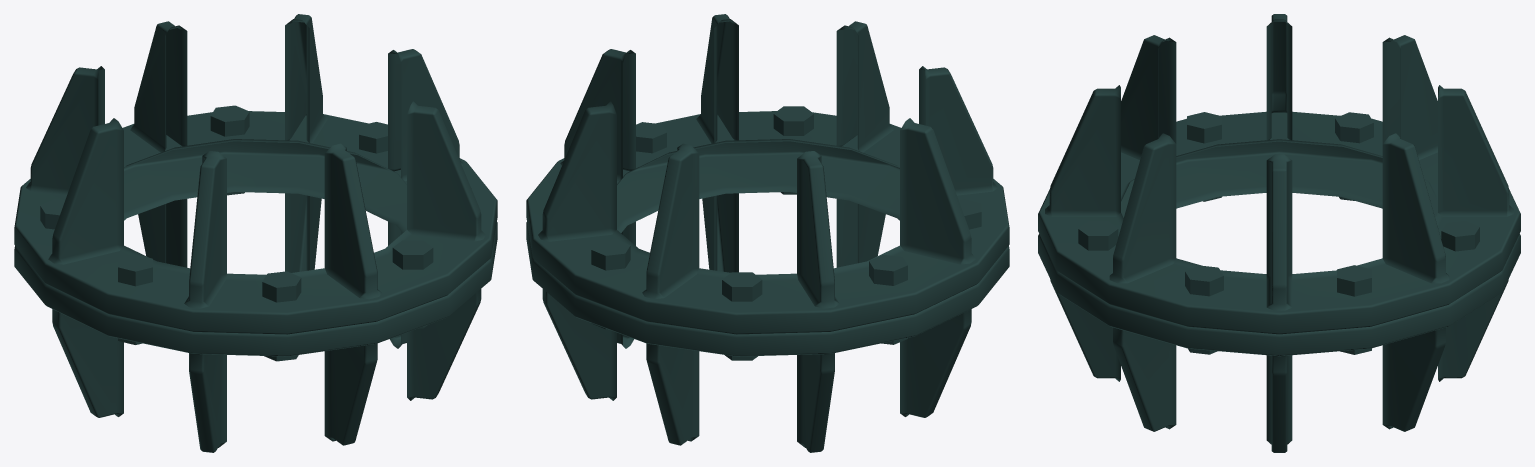
Rendered from SM_Bracing.fbx.
3 views of the same model, side by side, from view 1: azimuth 30°, elevation 25°; view 2: azimuth 150°, elevation 25°; view 3: azimuth 270°, elevation 25° (orthographic).
Visible parts, largest first — view 1: SM_Bracing; view 2: SM_Bracing; view 3: SM_Bracing.
Boxes of the visible parts, x1,y1,x2,y2 form: SM_Bracing: (14,14,497,452); SM_Bracing: (526,14,1009,452); SM_Bracing: (1038,14,1520,452).
Bounding box in the file's own units: 0.3 × 0.2012 × 0.3.
